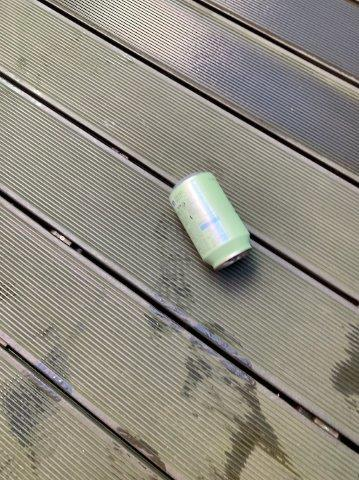kaleng: (171, 172, 251, 269)
